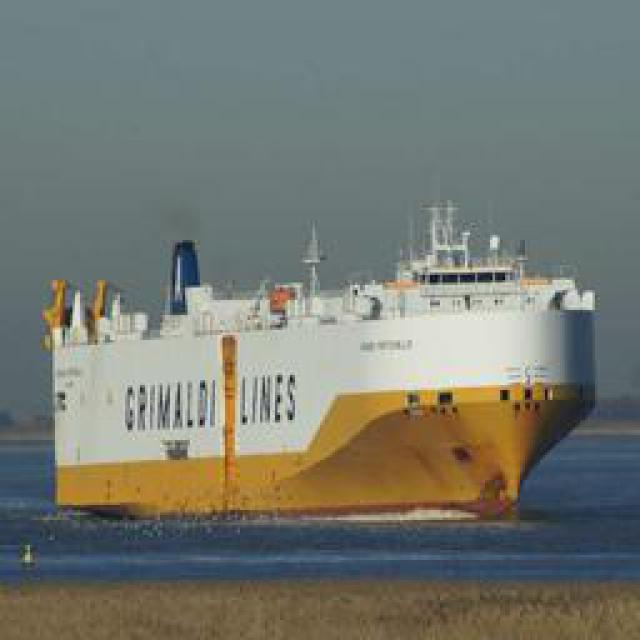Ship: (40, 205, 603, 518)
